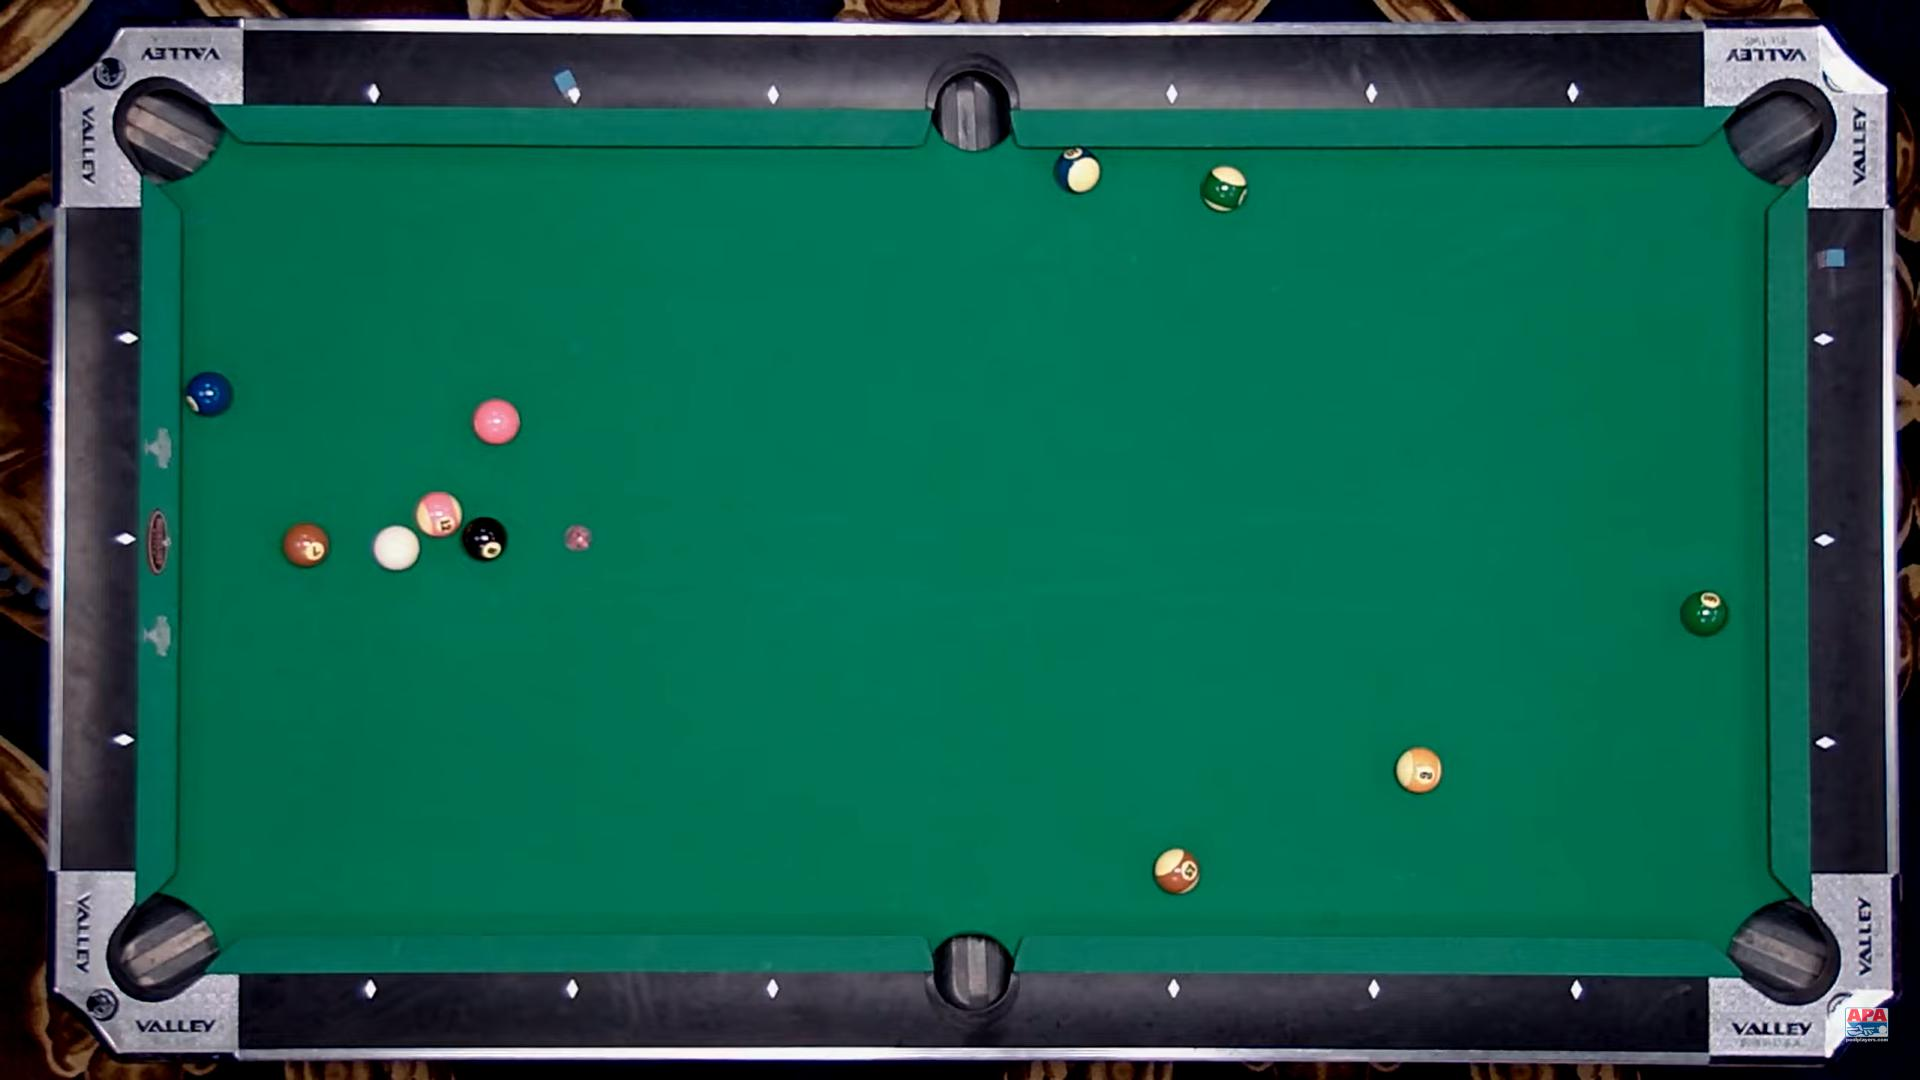Black: (463, 517, 506, 560)
Cue: (373, 526, 421, 571)
Dot: (568, 87, 583, 102), (764, 87, 778, 102), (1164, 88, 1179, 103), (1567, 86, 1581, 100), (1817, 332, 1832, 347), (564, 982, 579, 997), (361, 982, 376, 997), (116, 735, 131, 748), (119, 531, 133, 545), (121, 331, 135, 345), (367, 86, 381, 99), (1366, 87, 1379, 102), (1817, 535, 1832, 549), (1818, 737, 1833, 750), (1571, 984, 1584, 998), (764, 982, 778, 996), (1366, 982, 1379, 996), (1166, 982, 1179, 996)
Solid: (1680, 589, 1729, 637), (473, 400, 520, 444), (186, 372, 232, 417), (284, 524, 330, 567)
Striped: (1200, 166, 1249, 214), (1054, 146, 1101, 195), (1154, 848, 1201, 895), (1396, 746, 1443, 793), (417, 492, 463, 537)
